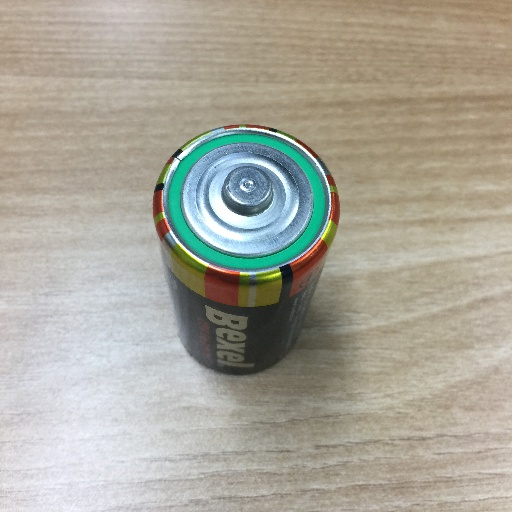Battery_0: (146, 120, 353, 381)
